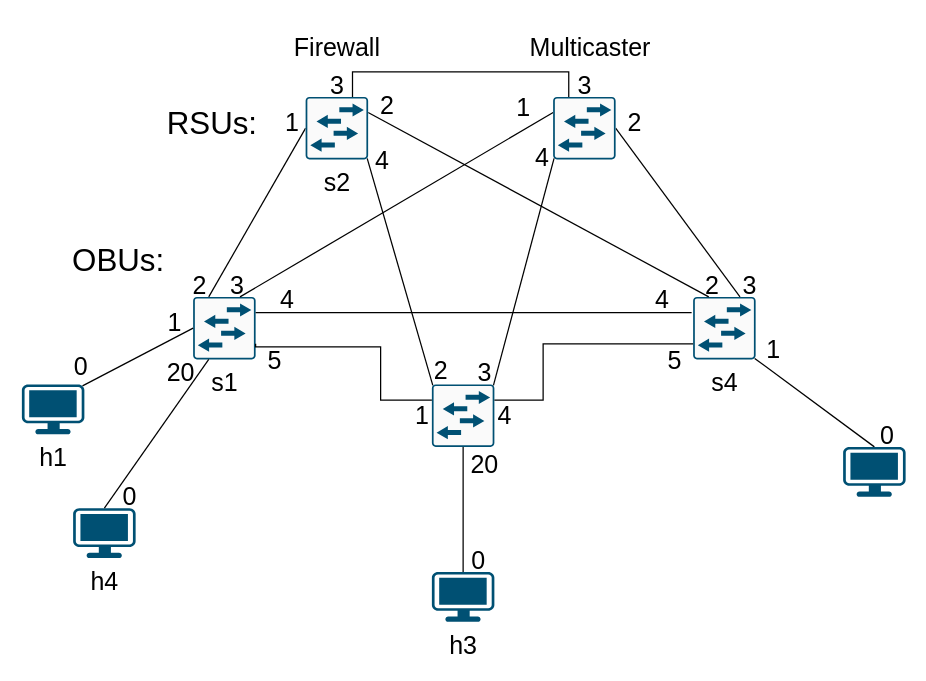
This 926x681 diagram has some shape labels left out. Each missing label, with the centre of its shape:
"h2" belongs at point (873, 471).
"s3" belongs at point (584, 127).
"s5" belongs at point (462, 415).
